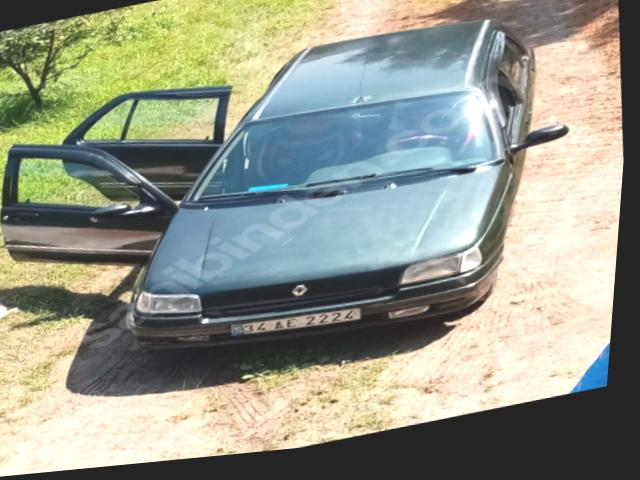plaka: (231, 308, 361, 335)
